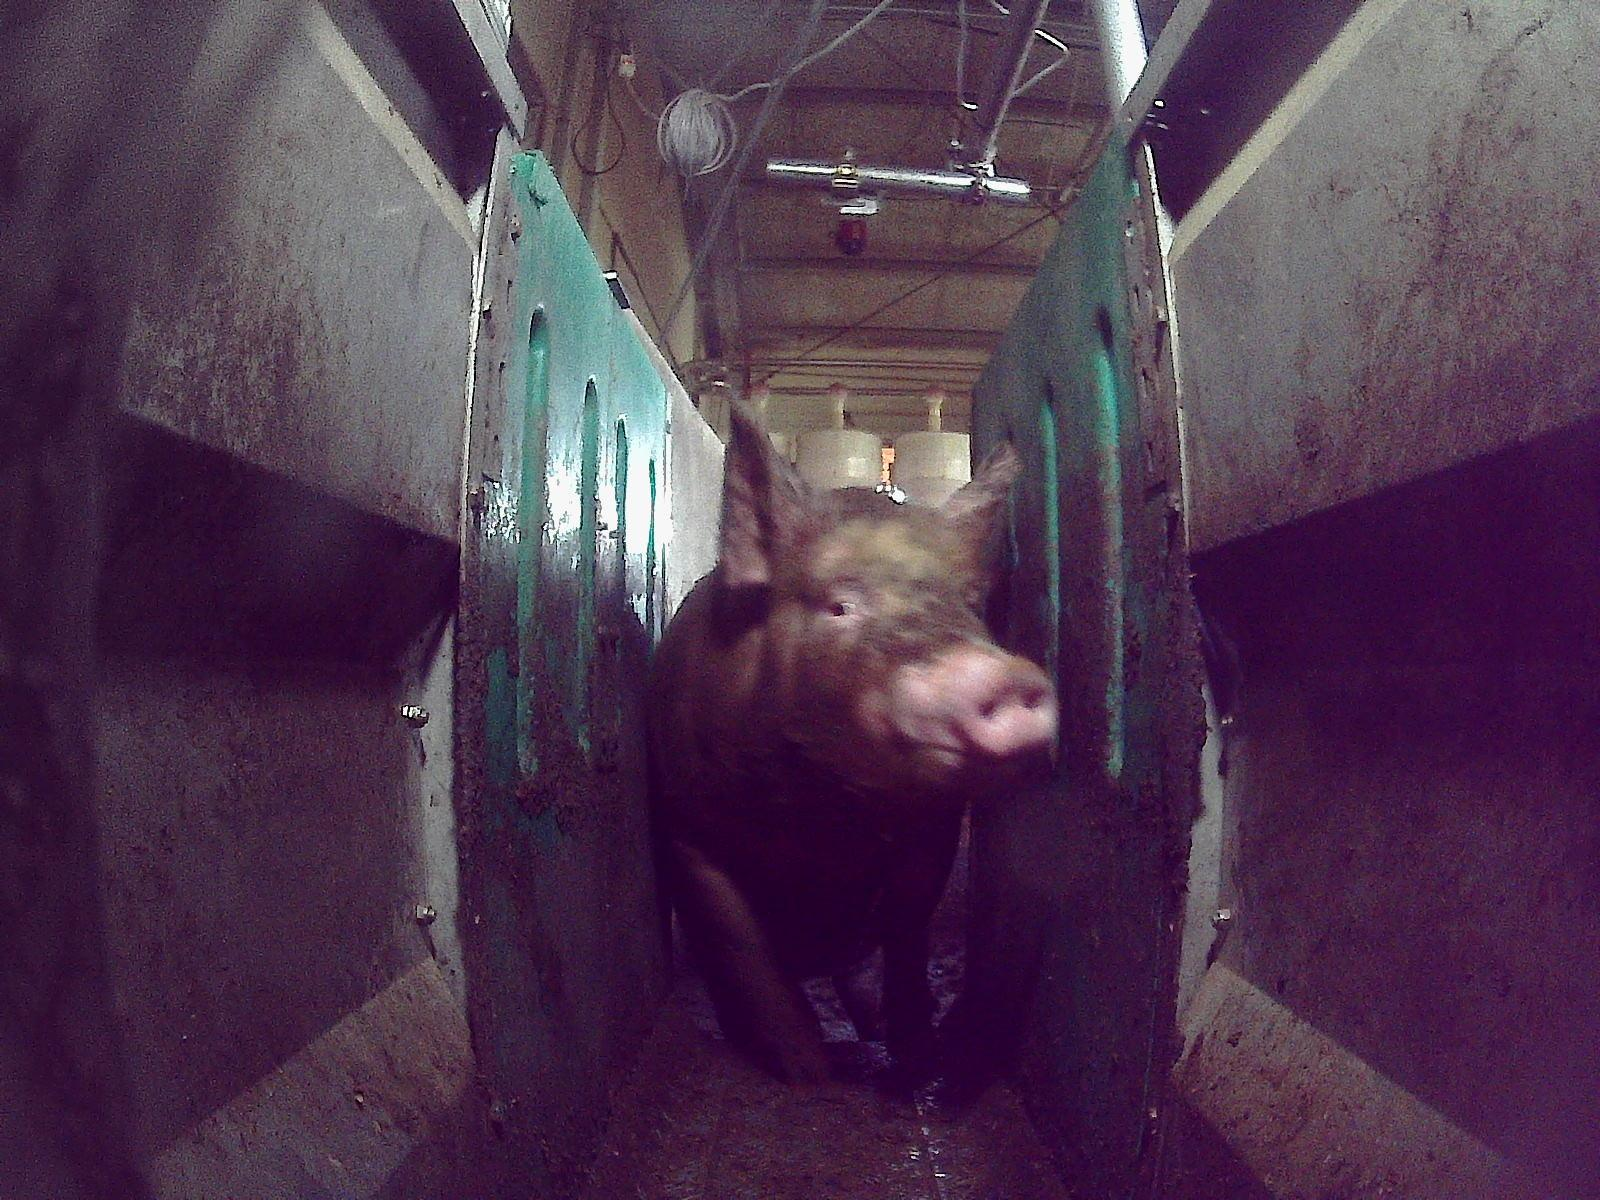Face: (759, 506, 1059, 793)
